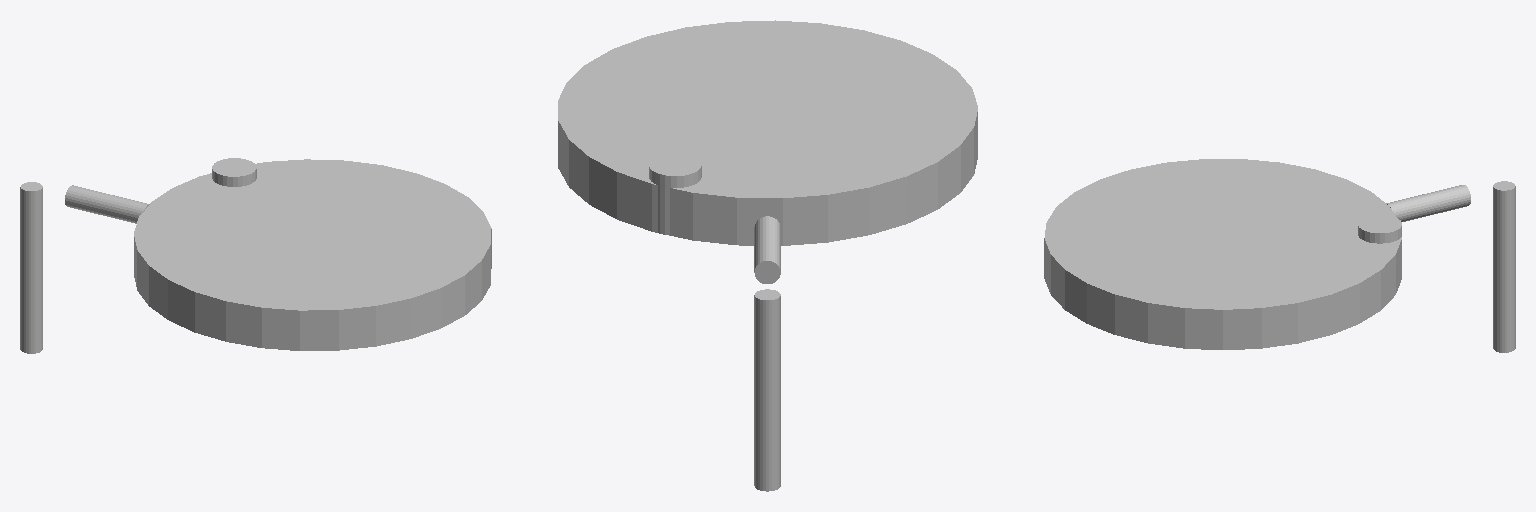
robot.urdf — hexapod:
<robot name="hexapod">
    <!-- ========================== Body Link ========================== -->

    <link name="world"/>
    <joint name="base_joint" type="fixed">
        <origin xyz="0 0 0.3" rpy="0 0 0"/>
        <parent link="world"/>
        <child link="body"/>
    </joint>
    <link name="body">
        <inertial>
            <!-- <origin xyz="0.0 0.0 0.01" rpy="0.0 0.0 0.0"/> -->
            <mass value="2.0"/>
            <inertia ixx="0.1" iyy="0.1" izz="0.3" ixy="0.0" ixz="0.0" iyz="0.0"/>
        </inertial>
        <visual>
            <!-- <origin xyz="0.0 0.0 0.0" rpy="0.0 0.0 0.0"/> -->
            <geometry>
                <mesh filename="package://hexapod_description/meshes/base.dae"/>
            </geometry>
        </visual>
        <collision>
            <!-- <origin xyz="0.0 0.0 0.0" rpy="0.0 0.0 0.0"/> -->
            <geometry>
                <mesh filename="package://hexapod_description/meshes/base.dae"/>
            </geometry>
        </collision>
    </link>

    <!-- ========================== Hip Links ========================== -->

    <link name="coxa_L1">
        <inertial>
            <!-- <origin xyz="0.0 0.0 0.0" rpy="0.0 0.0 0.0"/> -->
            <mass value="0.1"/>
            <inertia ixx="0.1" iyy="0.1" izz="0.1" ixy="0.0" ixz="0.0" iyz="0.0"/>
        </inertial>
        <visual>
            <!-- <origin xyz="0.0 0.0 0.0" rpy="0.0 0.0 0.0"/> -->
            <geometry>
                <mesh filename="package://hexapod_description/meshes/coxa.dae"/>
            </geometry>
        </visual>
        <!-- <collision>
            <origin xyz="0.0 0.0 0.0" rpy="0.0 0.0 0.0"/>
            <geometry>
                <mesh filename="package://hexapod_description/meshes/coxa.dae"/>
            </geometry>
        </collision> -->
    </link>

    <!-- ========================== Femur Links ========================== -->

    <link name="femur_L1">
        <inertial>
            <!-- <origin xyz="0.0 0.0 0.0" rpy="0.0 0.0 0.0"/> -->
            <mass value="0.5"/>
            <inertia ixx="0.1" iyy="0.1" izz="0.1" ixy="0.0" ixz="0.0" iyz="0.0"/>
        </inertial>
        <visual>
            <!-- <origin xyz="0.0 0.0 0.0" rpy="0.0 0.0 0.0"/> -->
            <geometry>
                <mesh filename="package://hexapod_description/meshes/femur.dae"/>
            </geometry>
        </visual>
        <!-- <collision>
            <origin xyz="0.0 0.0 0.0" rpy="0.0 0.0 0.0"/>
            <geometry>
                <mesh filename="package://hexapod_description/meshes/femur.dae"/>
            </geometry>
        </collision> -->
    </link>

    <!-- ========================== Tibia Links ========================== -->

    <link name="tibia_L1">
        <inertial>
            <!-- <origin xyz="0.0 0.0 0.0" rpy="0.0 0.0 0.0"/> -->
            <mass value="1.0"/>
            <inertia ixx="0.1" iyy="0.1" izz="0.1" ixy="0.0" ixz="0.0" iyz="0.0"/>
        </inertial>
        <visual>
            <!-- <origin xyz="0.0 0.0 0.0" rpy="0.0 0.0 0.0"/> -->
            <geometry>
                <mesh filename="package://hexapod_description/meshes/tibia.dae"/>
            </geometry>
        </visual>
        <collision>
            <!-- <origin xyz="0.0 0.0 0.0" rpy="0.0 0.0 0.0"/> -->
            <geometry>
                <mesh filename="package://hexapod_description/meshes/tibia.dae"/>
            </geometry>
        </collision>
    </link>
    
    <!-- ======================= Gazebo collision ======================= -->

    <gazebo reference="tibia_L1">
        <kp>1000000.0</kp>    <!--contact stiffness-->
        <kd>100.0</kd>        <!--damping-->
        <collision name="tibia_L1_collision">
            <surface>
                <friction>
                    <ode>
                        <mu>1.0</mu>
                        <mu2>1.0</mu2>
                    </ode>
                </friction>
            </surface>
        </collision>
        <!-- <sensor name="tibia_L1_sensor" type="contact">
            <selfCollide>true</selfCollide>
            <alwaysOn>true</alwaysOn>
            <updateRate>40.0</updateRate>
            <contact>
                <collision>tibia_L1_collision</collision>
            </contact>
            <plugin name="gazebo_ros_bumper_controller" filename="libgazebo_ros_bumper.so">
                <bumperTopicName>tibia_L1_bumper</bumperTopicName>
                <frameName>world</frameName>
            </plugin>
        </sensor> -->
    </gazebo>

    <!-- ========================== Foot Links ========================== -->

    <link name="foot_L1"/>

    <!-- ========================== Hip1 Joints ========================== -->

    <joint name="joint_hip1_L1" type="revolute">
        <origin xyz="-0.03250 0.05629 0.01" rpy="-1.5708 0 0.5236"/>
        <limit lower="-3" upper="3" effort="30.0" velocity="6"/>
        <parent link="body"/>
        <child link="coxa_L1"/>
        <axis xyz="0 1 0"/>
        <safety_controller k_position="100.0" k_velocity="40.0" soft_lower_limit="-3" soft_upper_limit="3"/>
    </joint>
    
    <!-- ========================== Hip2 Joints ========================== -->

    <joint name="joint_hip2_L1" type="revolute">
        <origin xyz="0 0 0.02" rpy="0 0 0"/>
        <limit lower="-3" upper="3" effort="30.0" velocity="6"/>
        <parent link="coxa_L1"/>
        <child link="femur_L1"/>
        <axis xyz="1 0 0"/>
        <safety_controller k_position="100.0" k_velocity="40.0" soft_lower_limit="-3" soft_upper_limit="3"/>
    </joint>
    
    <!-- ========================== Knee Joints ========================== -->

    <joint name="joint_knee_L1" type="revolute">
        <origin xyz="0 0 0.06" rpy="-1.5708 0 0"/>
        <limit lower="-3" upper="3" effort="30.0" velocity="6"/>
        <parent link="femur_L1"/>
        <child link="tibia_L1"/>
        <axis xyz="1 0 0"/>
        <safety_controller k_position="100.0" k_velocity="40.0" soft_lower_limit="-3" soft_upper_limit="3"/>
    </joint>
    
    <!-- ========================== Foot Joints ========================== -->

    <joint name="joint_foot_L1" type="fixed">
        <origin xyz="0 0 0.10" rpy="0 0 0 "/>
        <parent link="tibia_L1"/>
        <child link="foot_L1"/>
    </joint>
    
    <!-- ========================== Transmission ========================== -->

    <transmission name="trans_joint_hip1_L1">
        <type>transmission_interface/SimpleTransmission</type>
        <joint name="joint_hip1_L1">
            <hardwareInterface>hardware_interface/EffortJointInterface</hardwareInterface>
        </joint>
        <actuator name="joint_hip1_L1_motor">
            <hardwareInterface>hardware_interface/EffortJointInterface</hardwareInterface>
            <mechanicalReduction>1</mechanicalReduction>
        </actuator>
    </transmission>
    <transmission name="trans_joint_hip2_L1">
        <type>transmission_interface/SimpleTransmission</type>
        <joint name="joint_hip2_L1">
            <hardwareInterface>hardware_interface/EffortJointInterface</hardwareInterface>
        </joint>
        <actuator name="joint_hip2_L1_motor">
            <hardwareInterface>hardware_interface/EffortJointInterface</hardwareInterface>
            <mechanicalReduction>1</mechanicalReduction>
        </actuator>
    </transmission>
    <transmission name="trans_joint_knee_L1">
        <type>transmission_interface/SimpleTransmission</type>
        <joint name="joint_knee_L1">
            <hardwareInterface>hardware_interface/EffortJointInterface</hardwareInterface>
        </joint>
        <actuator name="joint_knee_L1_motor">
            <hardwareInterface>hardware_interface/EffortJointInterface</hardwareInterface>
            <mechanicalReduction>1</mechanicalReduction>
        </actuator>
    </transmission>

    <!-- ========================== Gazebo ========================== -->

    <gazebo>
        <!-- IMU, not used yet -->
        <!-- <plugin name="imu_plugin" filename="libgazebo_ros_imu.so">
            <alwaysOn>true</alwaysOn>
            <bodyName>body</bodyName>
            <topicName>imu</topicName>
            <serviceName>imu_service</serviceName>
            <gaussianNoise>0.0</gaussianNoise>
            <updateRate>40.0</updateRate>
        </plugin> -->
        <plugin name="gazebo_ros_control" filename="libgazebo_ros_control.so">
            <robotNamespace>/hexapod</robotNamespace>
        </plugin>
    </gazebo>

</robot>

--- Facts derived from the render (not from the file) ---
3 views of the same robot in one strip: view 1: azimuth 30°, elevation 25°; view 2: azimuth 150°, elevation 25°; view 3: azimuth 270°, elevation 25° (orthographic).
Robot: hexapod — 6 links, 5 joints (3 revolute, 2 fixed); root link world; default pose: all joints at 0.
Visible links, largest first — view 1: body, tibia_L1, femur_L1; view 2: body, tibia_L1, femur_L1; view 3: body, tibia_L1, femur_L1.
Link boxes in pixels (x1,y1,x2,y2): body: (134,158,491,350); tibia_L1: (20,182,42,353); femur_L1: (65,185,149,223); body: (558,20,977,245); tibia_L1: (754,289,780,491); femur_L1: (754,216,780,283); body: (1044,159,1401,349); tibia_L1: (1493,181,1515,352); femur_L1: (1386,185,1470,221).
Bounding box of the posed robot: 0.1595 × 0.2104 × 0.095 m (x, y, z).
Meshes: 4 distinct files referenced, 4 mesh visuals loaded (4 Collada DAE).